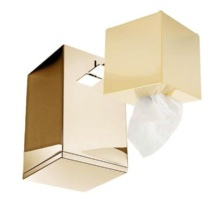tissue: (121, 88, 191, 164)
